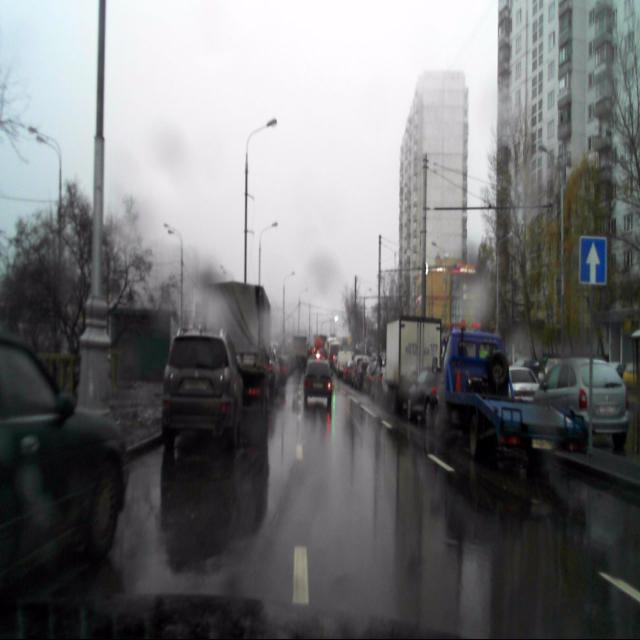road sign: (579, 236, 607, 284)
